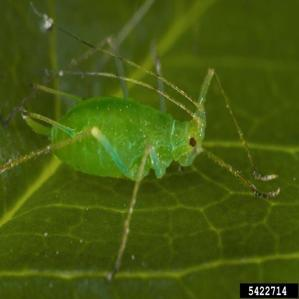Green peach aphid: (8, 22, 289, 264)
